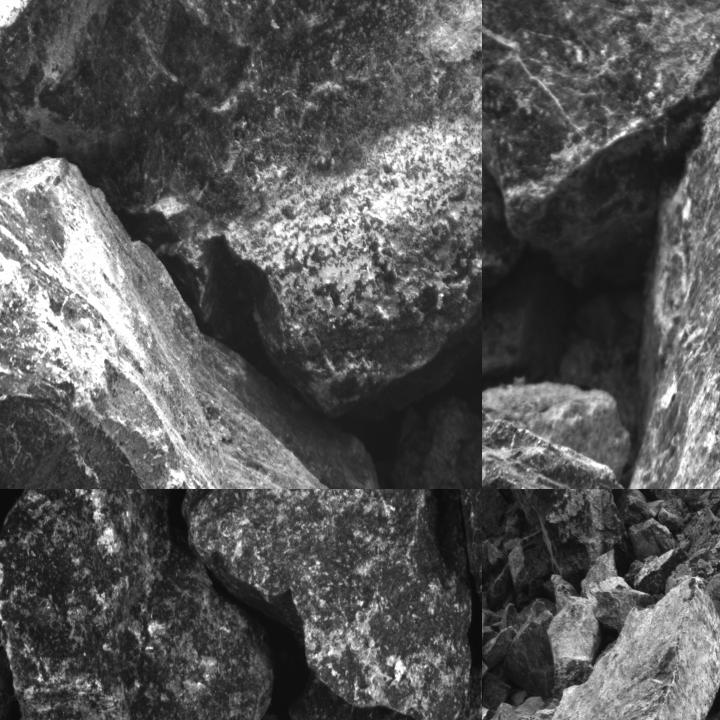stone: (0, 0, 481, 424), (0, 153, 391, 488), (482, 0, 719, 291), (183, 489, 474, 719), (0, 489, 274, 719), (628, 0, 719, 488), (507, 575, 719, 719), (482, 393, 659, 488), (482, 51, 525, 296), (535, 489, 637, 582), (287, 668, 445, 719), (545, 595, 602, 701), (505, 489, 639, 533), (502, 598, 555, 698), (427, 653, 481, 719), (508, 534, 549, 602), (482, 489, 507, 565), (482, 590, 489, 702)
